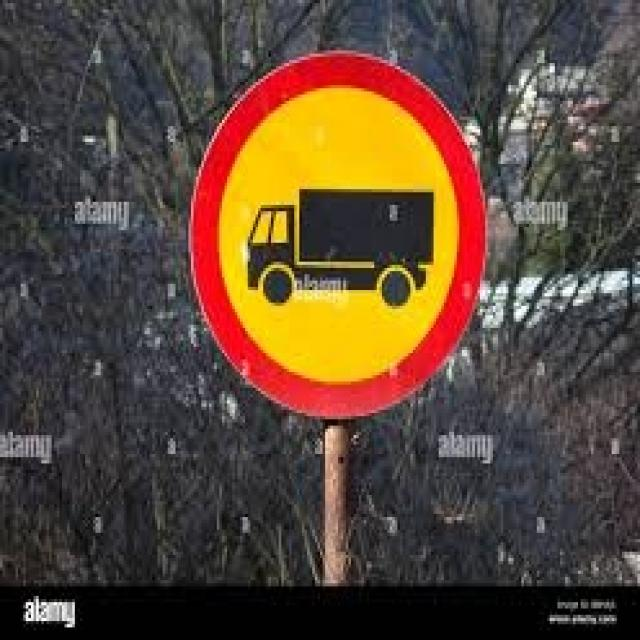do_not_enter: (184, 44, 496, 430)
